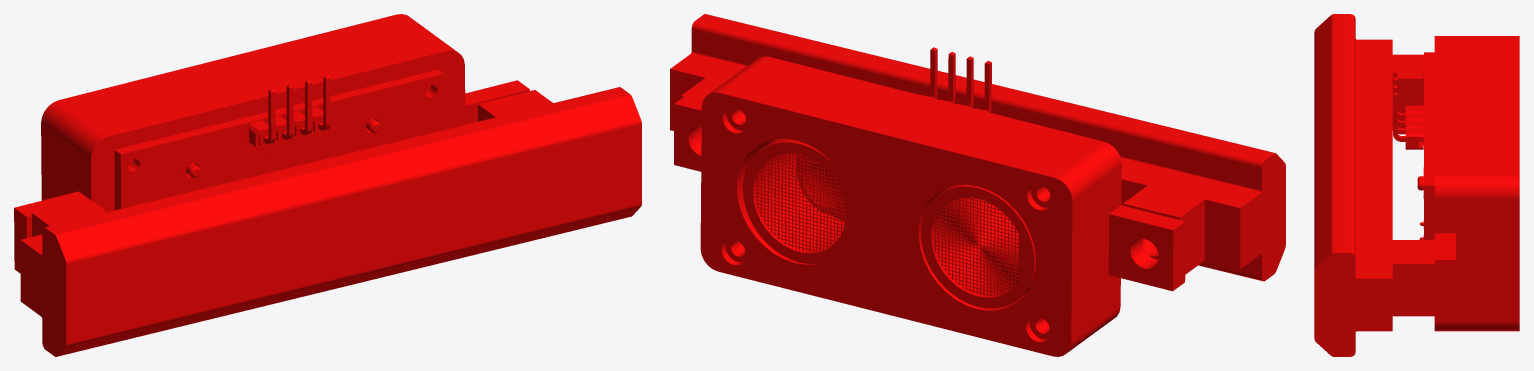
File: sonar2.dae
3 renders of one model, left to right at view 1: azimuth 30°, elevation 25°; view 2: azimuth 150°, elevation 25°; view 3: azimuth 270°, elevation 25°, orthographic. The views are drawn at different scales.
Visible parts, largest first — view 1: Body1 (×3), Platine.step.STEP.STEP; view 2: Body1 (×4), Platine.step.STEP.STEP, HC_SR04_gitter_001.step.STEP.STEP; view 3: Body1 (×3), Platine.step.STEP.STEP.
Part boxes in pixels (bbox=[...]): Body1 (×3): bbox=[14, 14, 641, 356]; Platine.step.STEP.STEP: bbox=[114, 69, 444, 209]; Body1 (×4): bbox=[670, 14, 1285, 356]; Platine.step.STEP.STEP: bbox=[743, 138, 1035, 308]; HC_SR04_gitter_001.step.STEP.STEP: bbox=[932, 197, 1024, 296]; Body1 (×3): bbox=[1314, 14, 1519, 356]; Platine.step.STEP.STEP: bbox=[1417, 52, 1434, 239].
Bounding box in the file's own units: 0.08 × 0.029 × 0.028.
